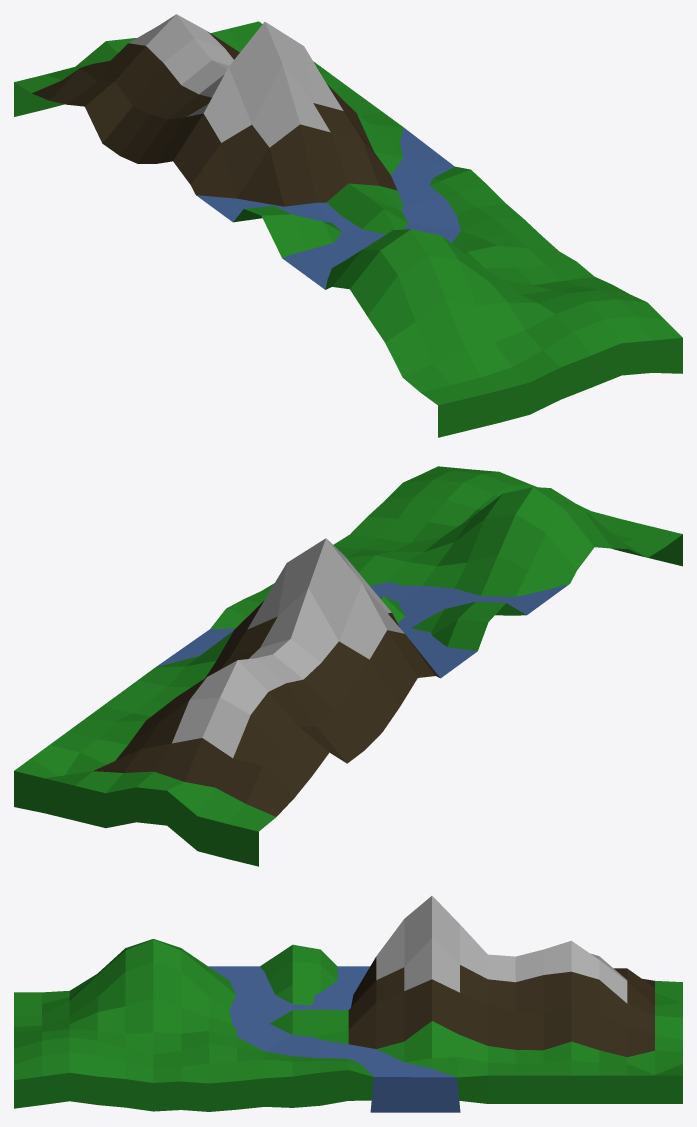
The model's file is plan02.fbx.
The picture shows the model from 3 angles, top to bottom: view 1: azimuth 30°, elevation 25°; view 2: azimuth 150°, elevation 25°; view 3: azimuth 270°, elevation 25°; orthographic projection. The views are drawn at different scales.
Visible parts, largest first — view 1: grass_plane; view 2: grass_plane; view 3: grass_plane.
Part boxes in pixels (left/top/right/bottom): grass_plane: left=14, top=14, right=682, bottom=437; grass_plane: left=14, top=466, right=682, bottom=866; grass_plane: left=14, top=896, right=682, bottom=1112.
Bounding box in the file's own units: 604 × 468 × 1800.
